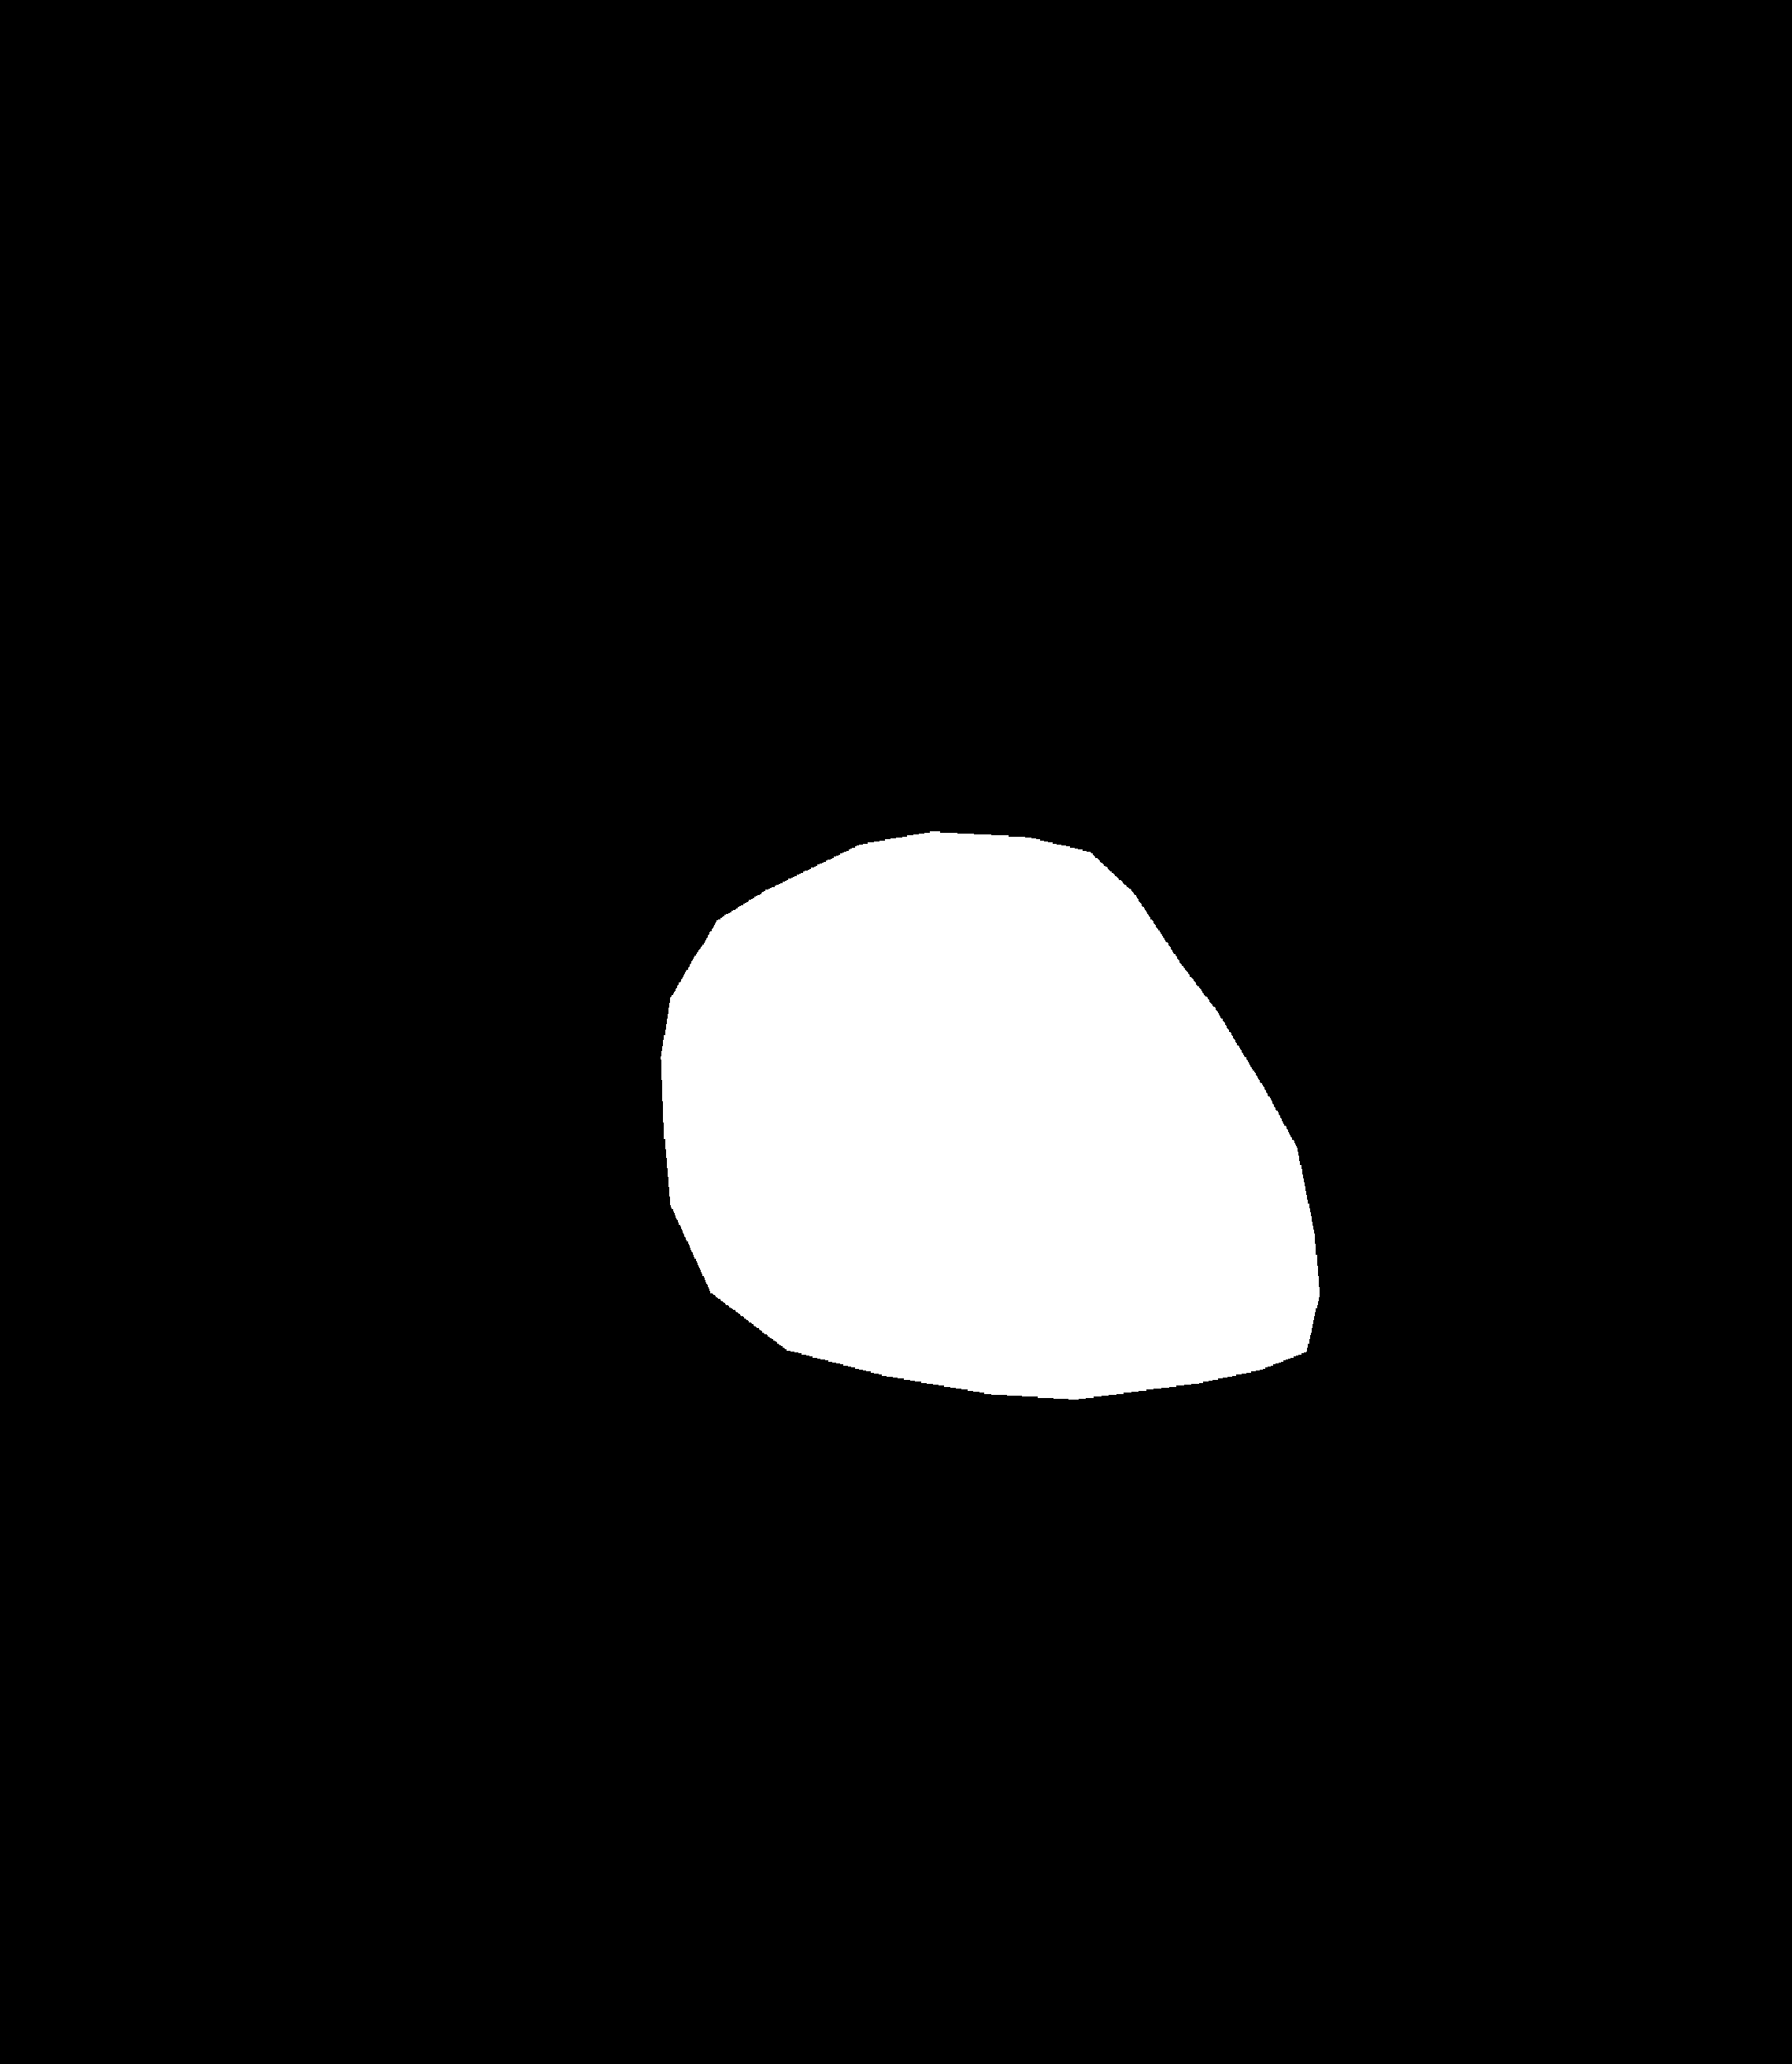heart: (658, 934, 1315, 1390)
left_lung: (183, 298, 769, 1460)
right_lung: (941, 286, 1557, 1404)
